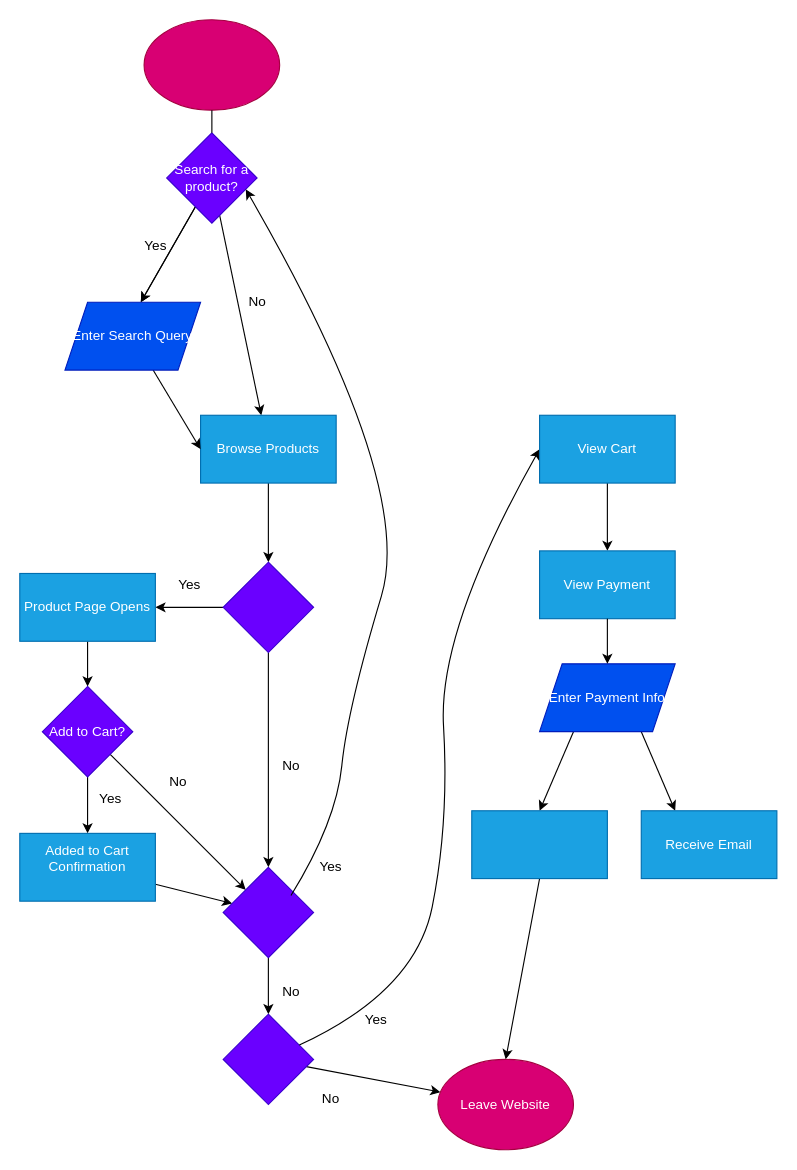
Image size: 797x1170. Some labels were removed from this diagram. The shapes that lost their labels are listed below. From the top down, each one's centre as x and y in pixels, then its label:
point 211,64: Enter Website
point 268,607: View specific product?
point 539,844: Order Confirmation
point 268,912: Continue Shopping?
point 268,1059: Checkout?
